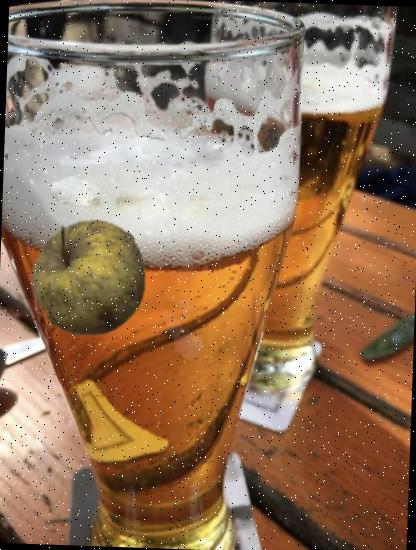Apple: (29, 216, 152, 339)
